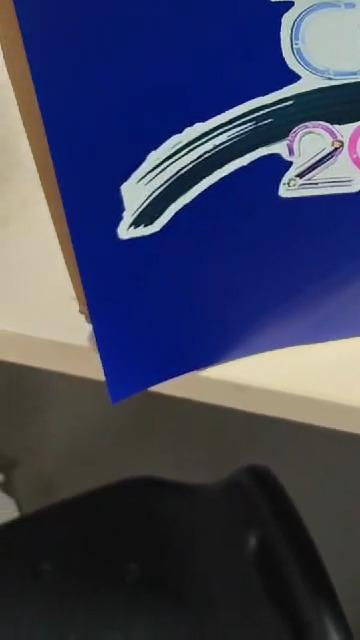B_R1: (97, 0, 360, 277)
